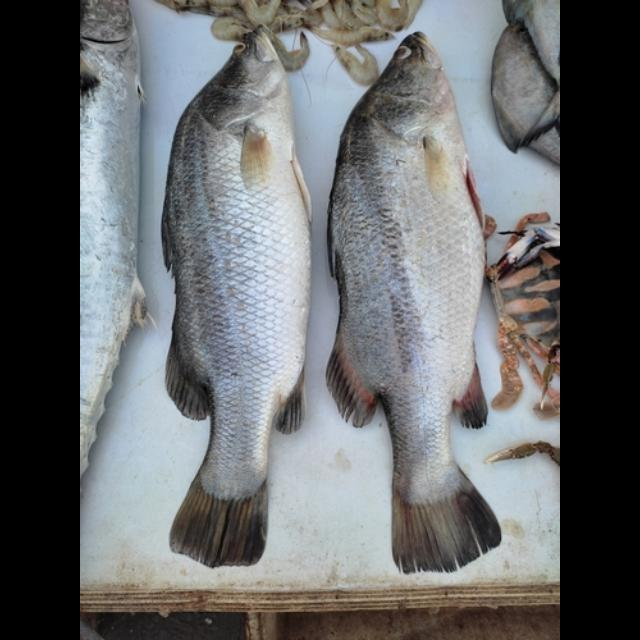Seabass: (326, 31, 502, 573), (160, 27, 314, 567)
